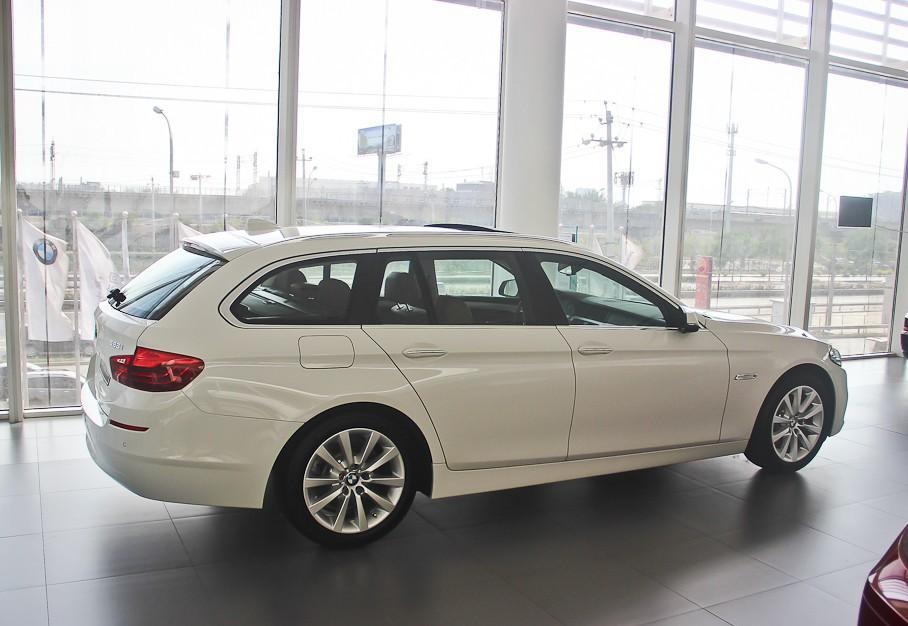Wagon: (79, 215, 849, 552)
